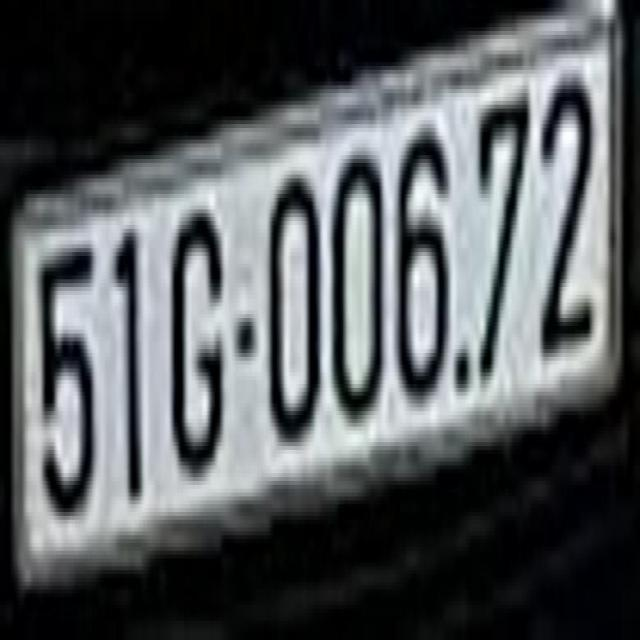0: (332, 132, 381, 415), (270, 167, 322, 430)
1: (112, 217, 144, 485)
2: (548, 62, 596, 357)
5: (41, 252, 93, 535)
6: (401, 120, 447, 388)
7: (476, 85, 534, 396)
G: (167, 210, 224, 477)
